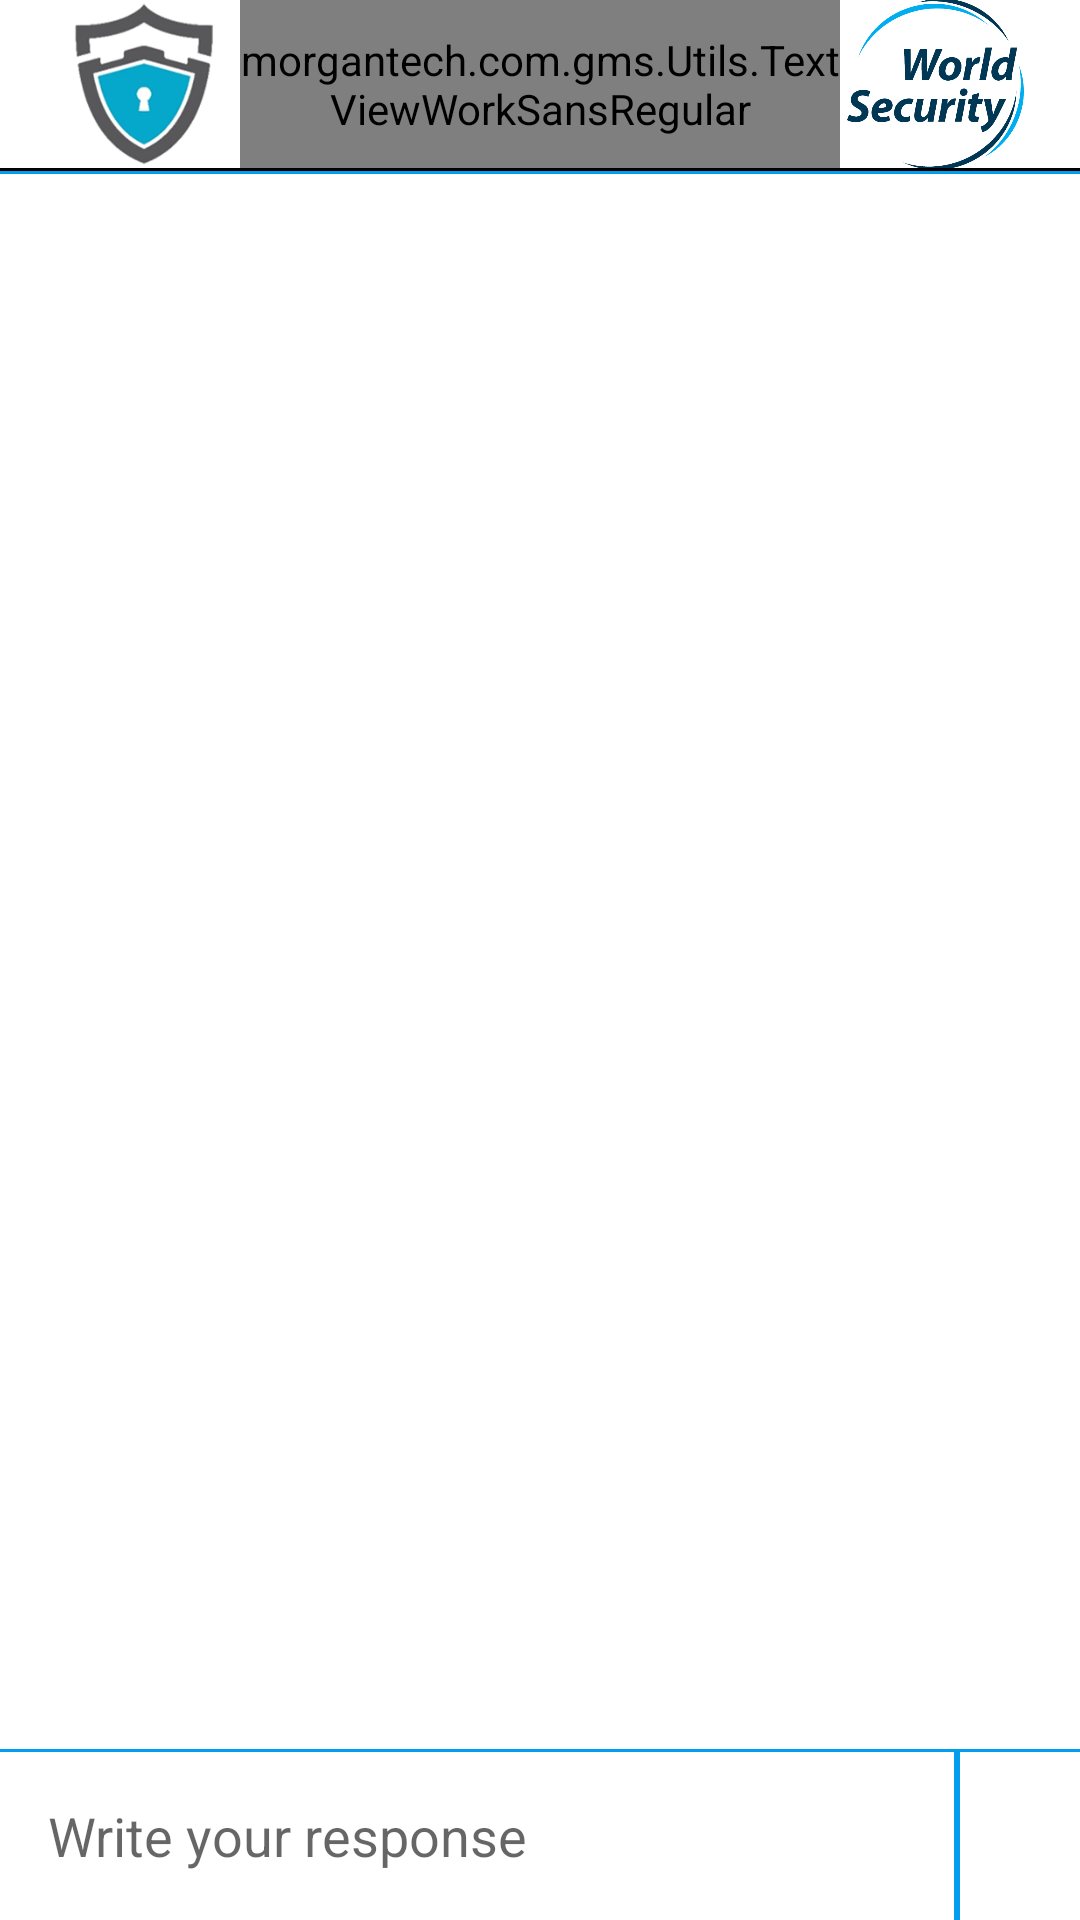

Point at icon controls on the screen. Image size 1080x1920, points as [x,y].
guardit: [144,84]
